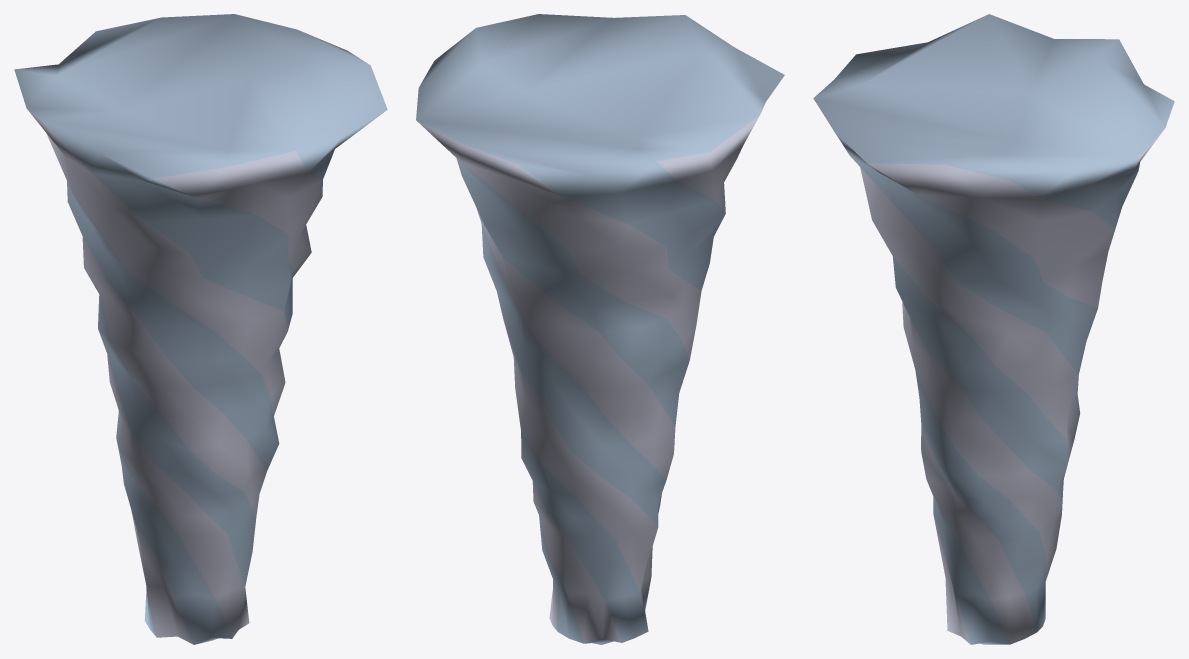
File: tornado_1.fbx
3 views of the same model, side by side, from view 1: azimuth 30°, elevation 25°; view 2: azimuth 150°, elevation 25°; view 3: azimuth 270°, elevation 25° (orthographic).
Visible parts, largest first — view 1: Cylinder; view 2: Cylinder; view 3: Cylinder.
Part boxes in pixels (x1,y1,x2,y2): Cylinder: (14,14,387,644); Cylinder: (416,14,784,644); Cylinder: (813,14,1174,644).
Bounding box in the file's own units: 2.03 × 3.46 × 2.05.
